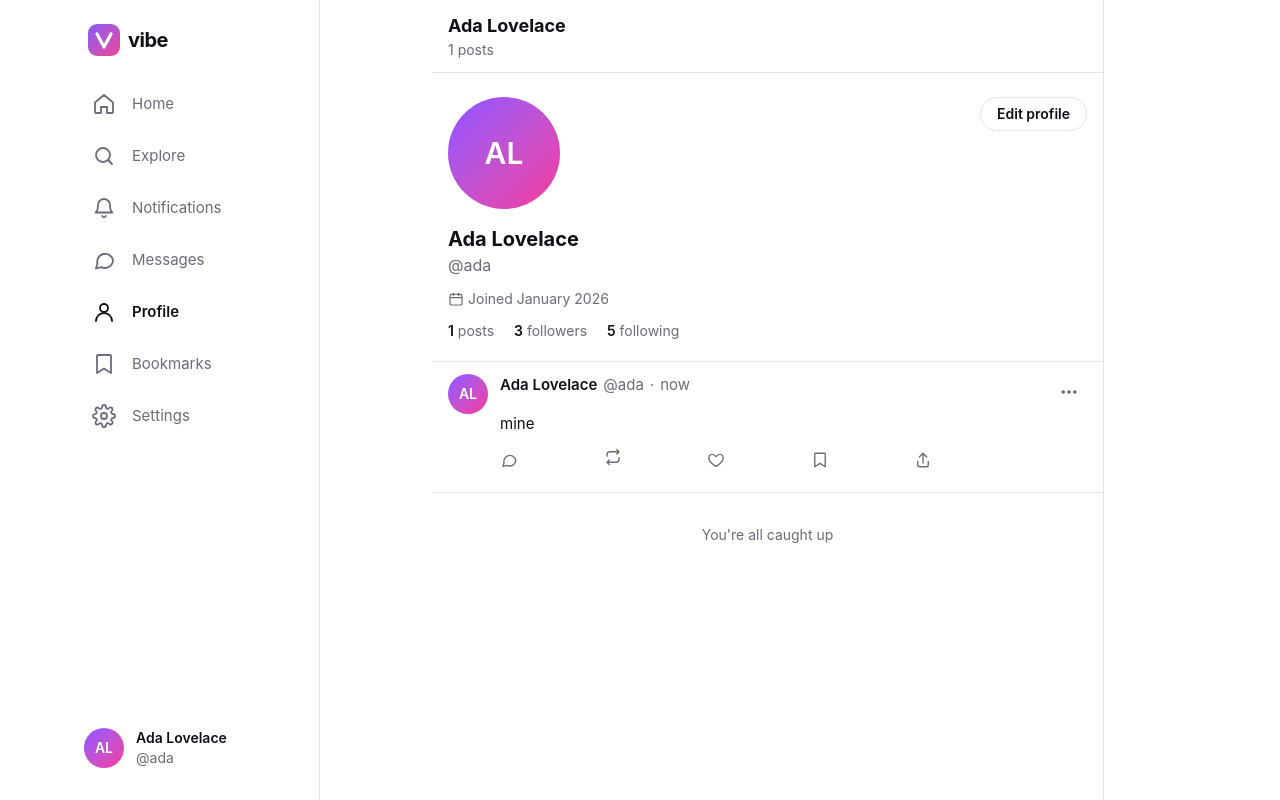
PostCard › only offers edit and delete to the author
Click the button named "Post options".
click(1069, 392)  # box [1051,374,1087,410]
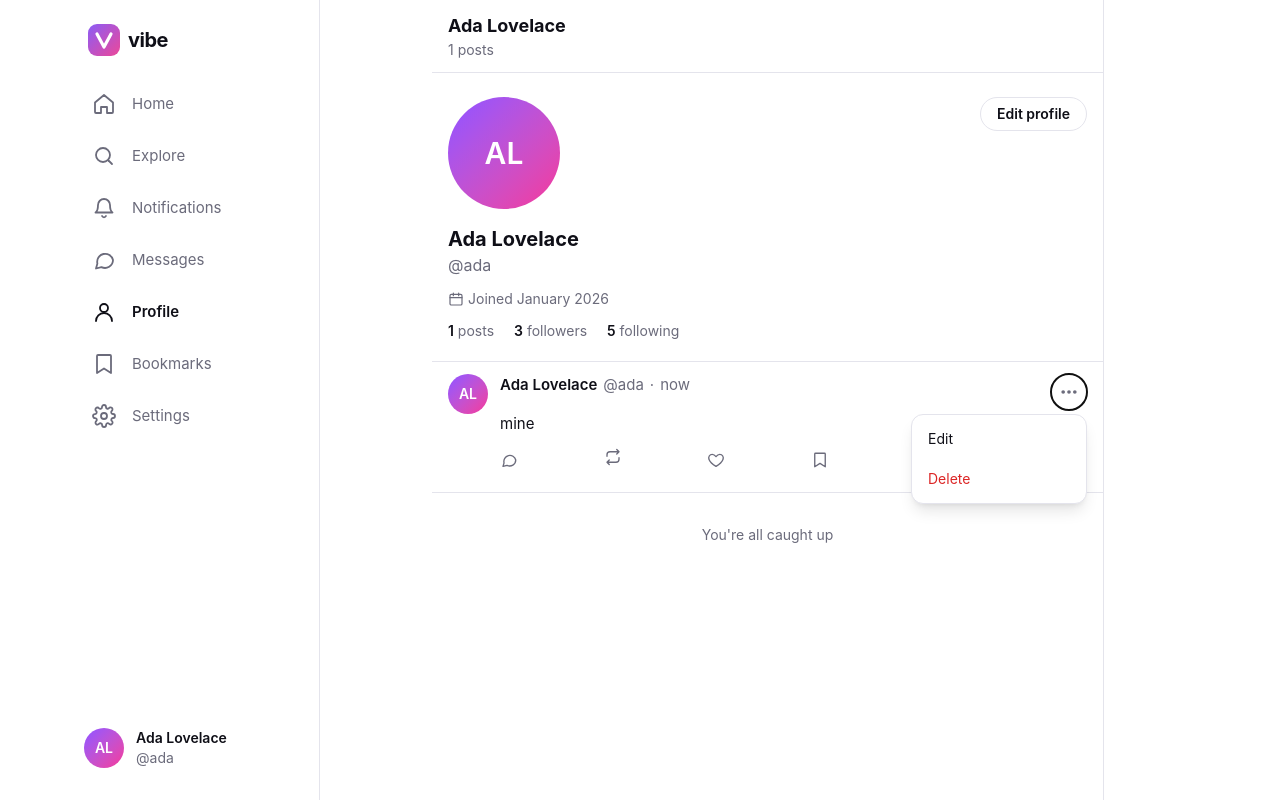
expect the menu item "Edit" is shown: met, box [912,419,1086,459]
expect the menu item "Delete" is shown: met, box [912,459,1086,499]
